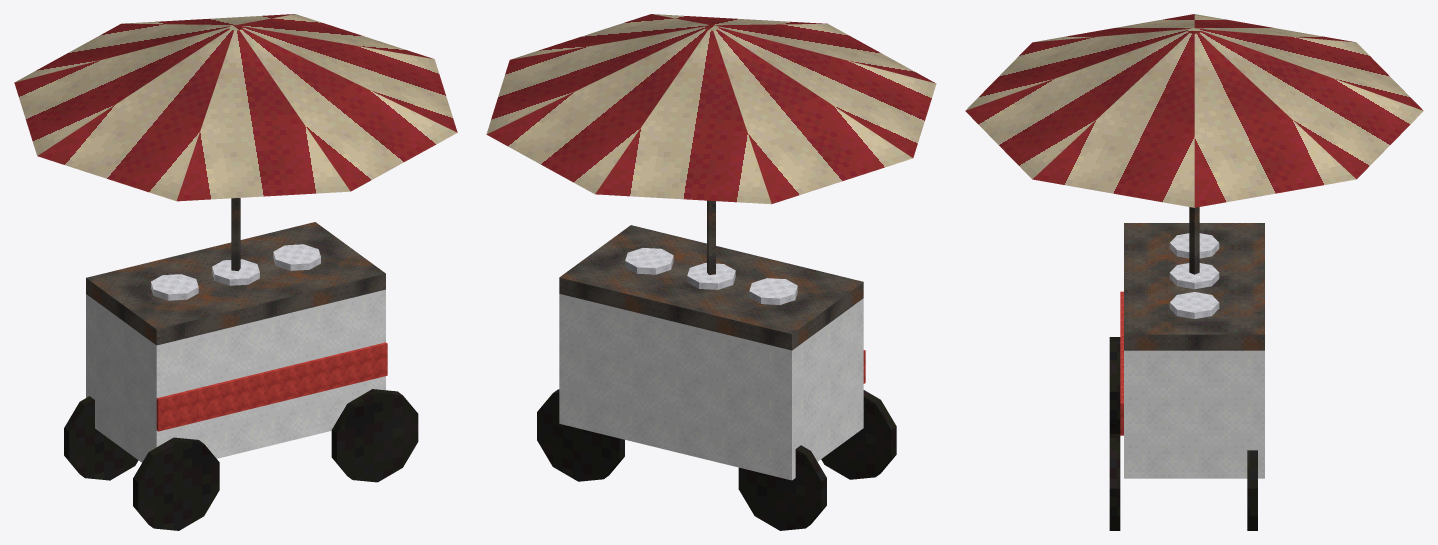
Rendered from carrito_helados.obj.
The picture shows the model from 3 angles, left to right: view 1: azimuth 30°, elevation 25°; view 2: azimuth 150°, elevation 25°; view 3: azimuth 270°, elevation 25°; orthographic projection.
Visible parts, largest first — view 1: carrito_helados; view 2: carrito_helados; view 3: carrito_helados.
Part boxes in pixels (x1,y1,x2,y2): carrito_helados: (14,14,457,530); carrito_helados: (486,14,936,530); carrito_helados: (965,14,1423,530).
Size of the model in its own units: 2.6 by 2.8 by 2.6.
Materials: 6 (6 with a texture image).
